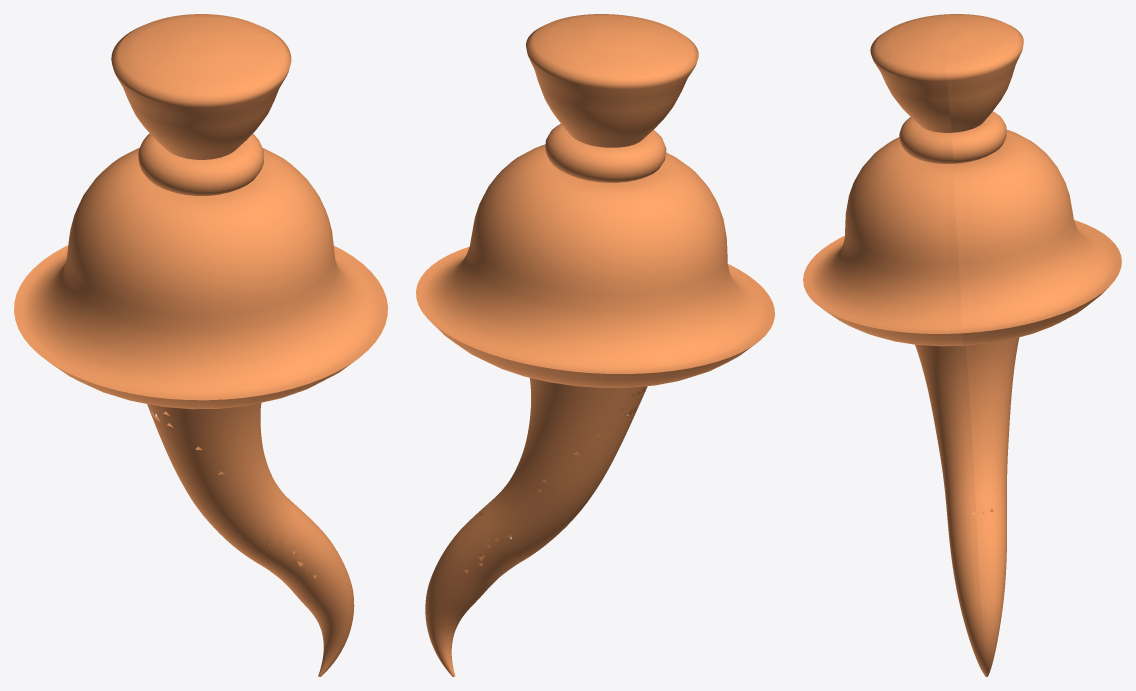
File: Aayudhangal_Padmam_01.glb
3 renders of one model, left to right at view 1: azimuth 30°, elevation 25°; view 2: azimuth 150°, elevation 25°; view 3: azimuth 270°, elevation 25°, orthographic. The views are drawn at different scales.
Parts seen in each view (by area): view 1: Aayudhangal_Padmam_01; view 2: Aayudhangal_Padmam_01; view 3: Aayudhangal_Padmam_01.
Boxes of the visible parts, bbox=[...] form: Aayudhangal_Padmam_01: bbox=[14, 14, 387, 676]; Aayudhangal_Padmam_01: bbox=[416, 14, 774, 676]; Aayudhangal_Padmam_01: bbox=[803, 14, 1121, 676].
Size of the model in its own units: 0.3356 by 0.6792 by 0.3346.
1 material, 1 textured.
